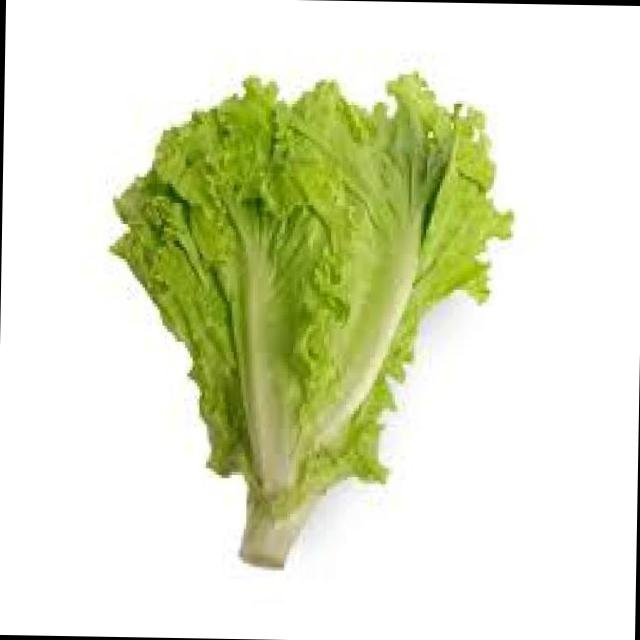Lettuce-Ready-to-Harvest: (114, 74, 511, 565)
